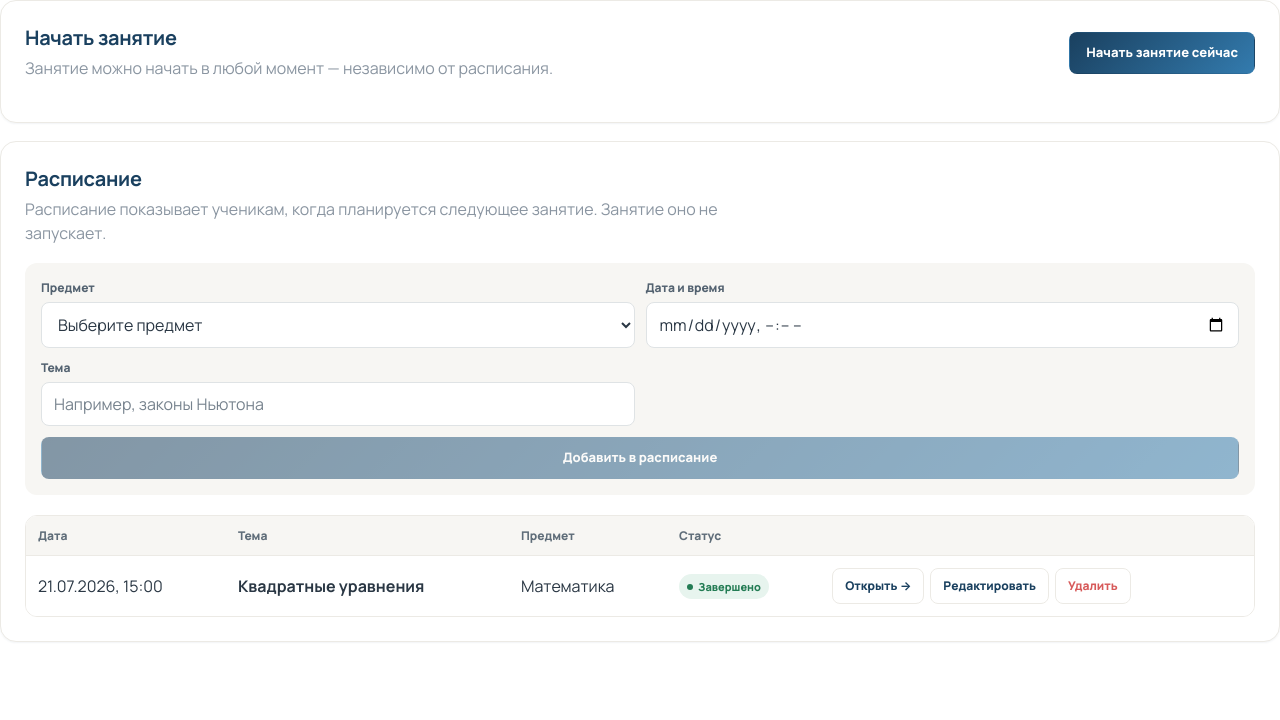
показывает удаление завершённого занятия преподавателю и отправляет DELETE
Click the button "Удалить" at (1093, 586), box [1055,568,1131,604]
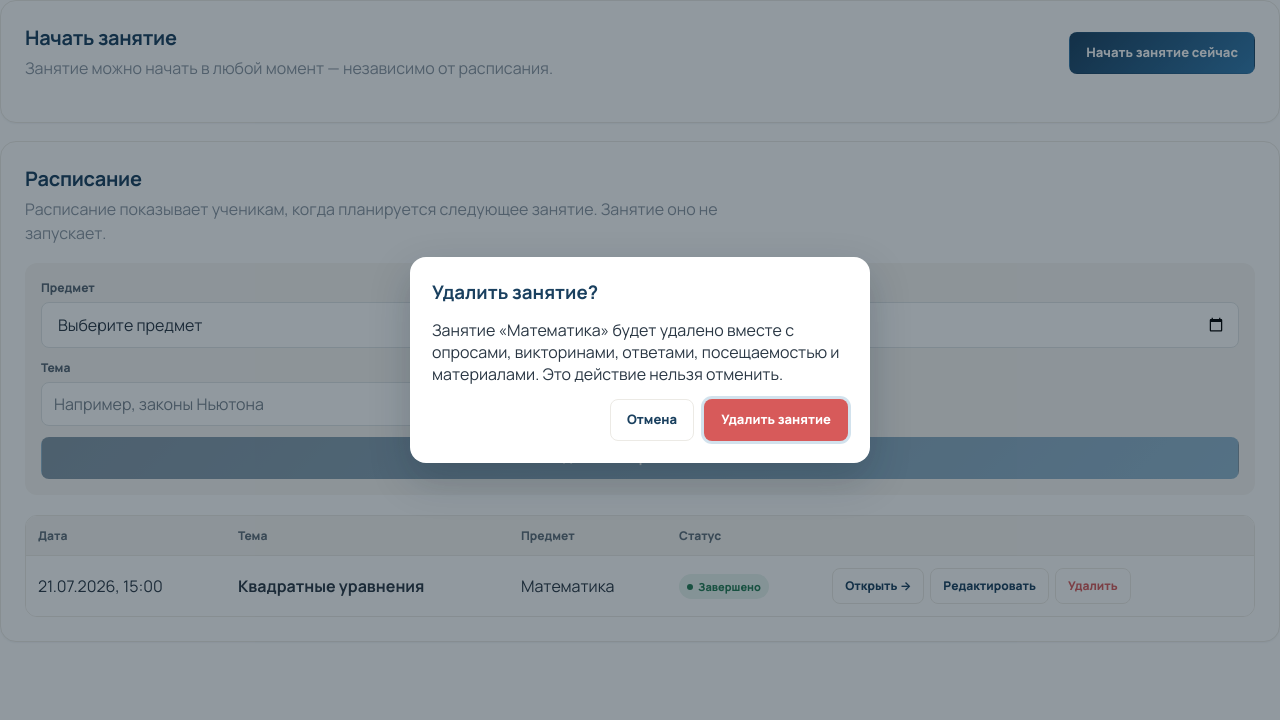
Check: the text "нельзя отменить" is shown, box [432,319,839,385]
Click the button "Удалить занятие" at (776, 420), box [704,399,848,441]
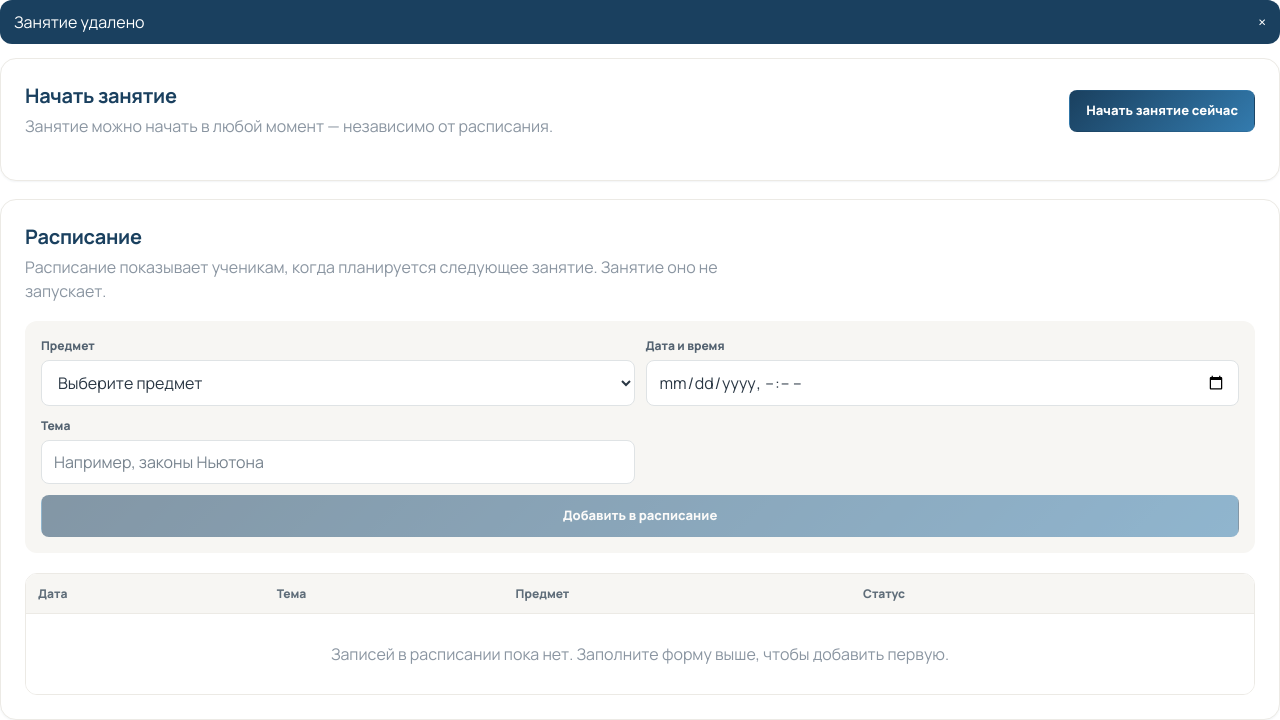
Check: the heading "Удалить занятие?" is gone
Click the button "Начать занятие сейчас" at (1162, 110), box [1069,90,1255,132]
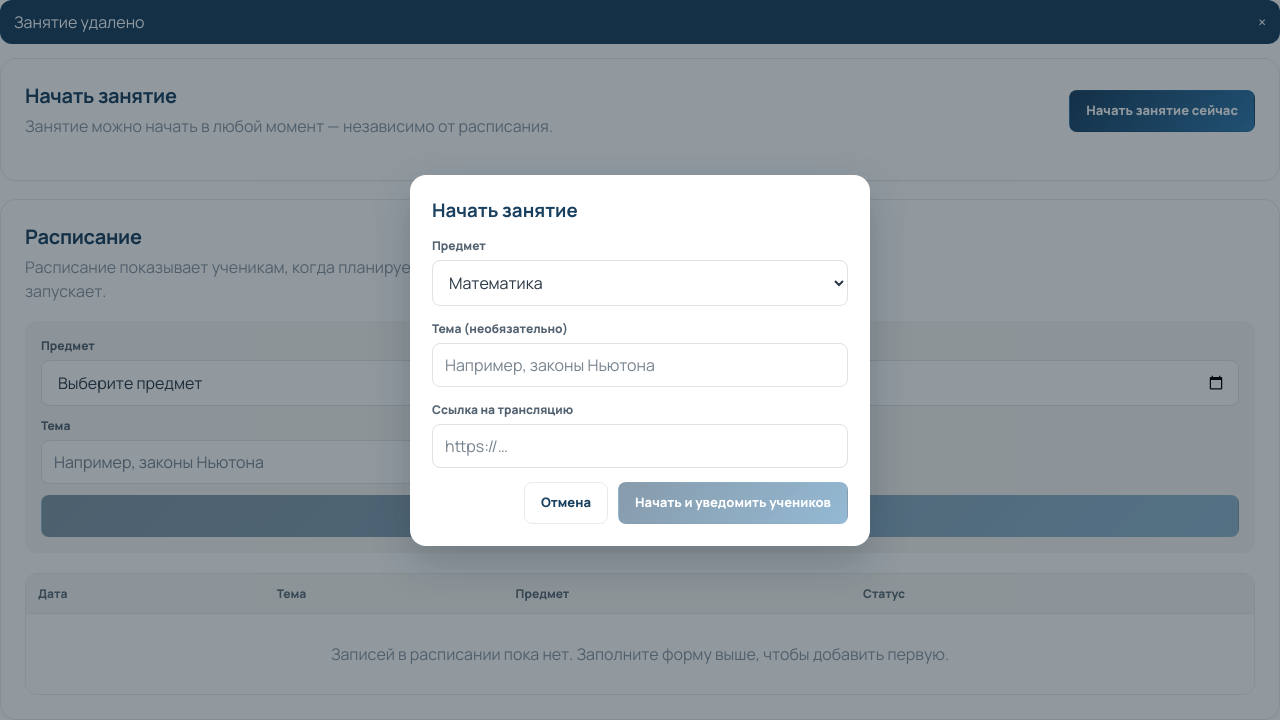
Check: the dialog "Начать занятие" is shown, box [410,174,870,546]
